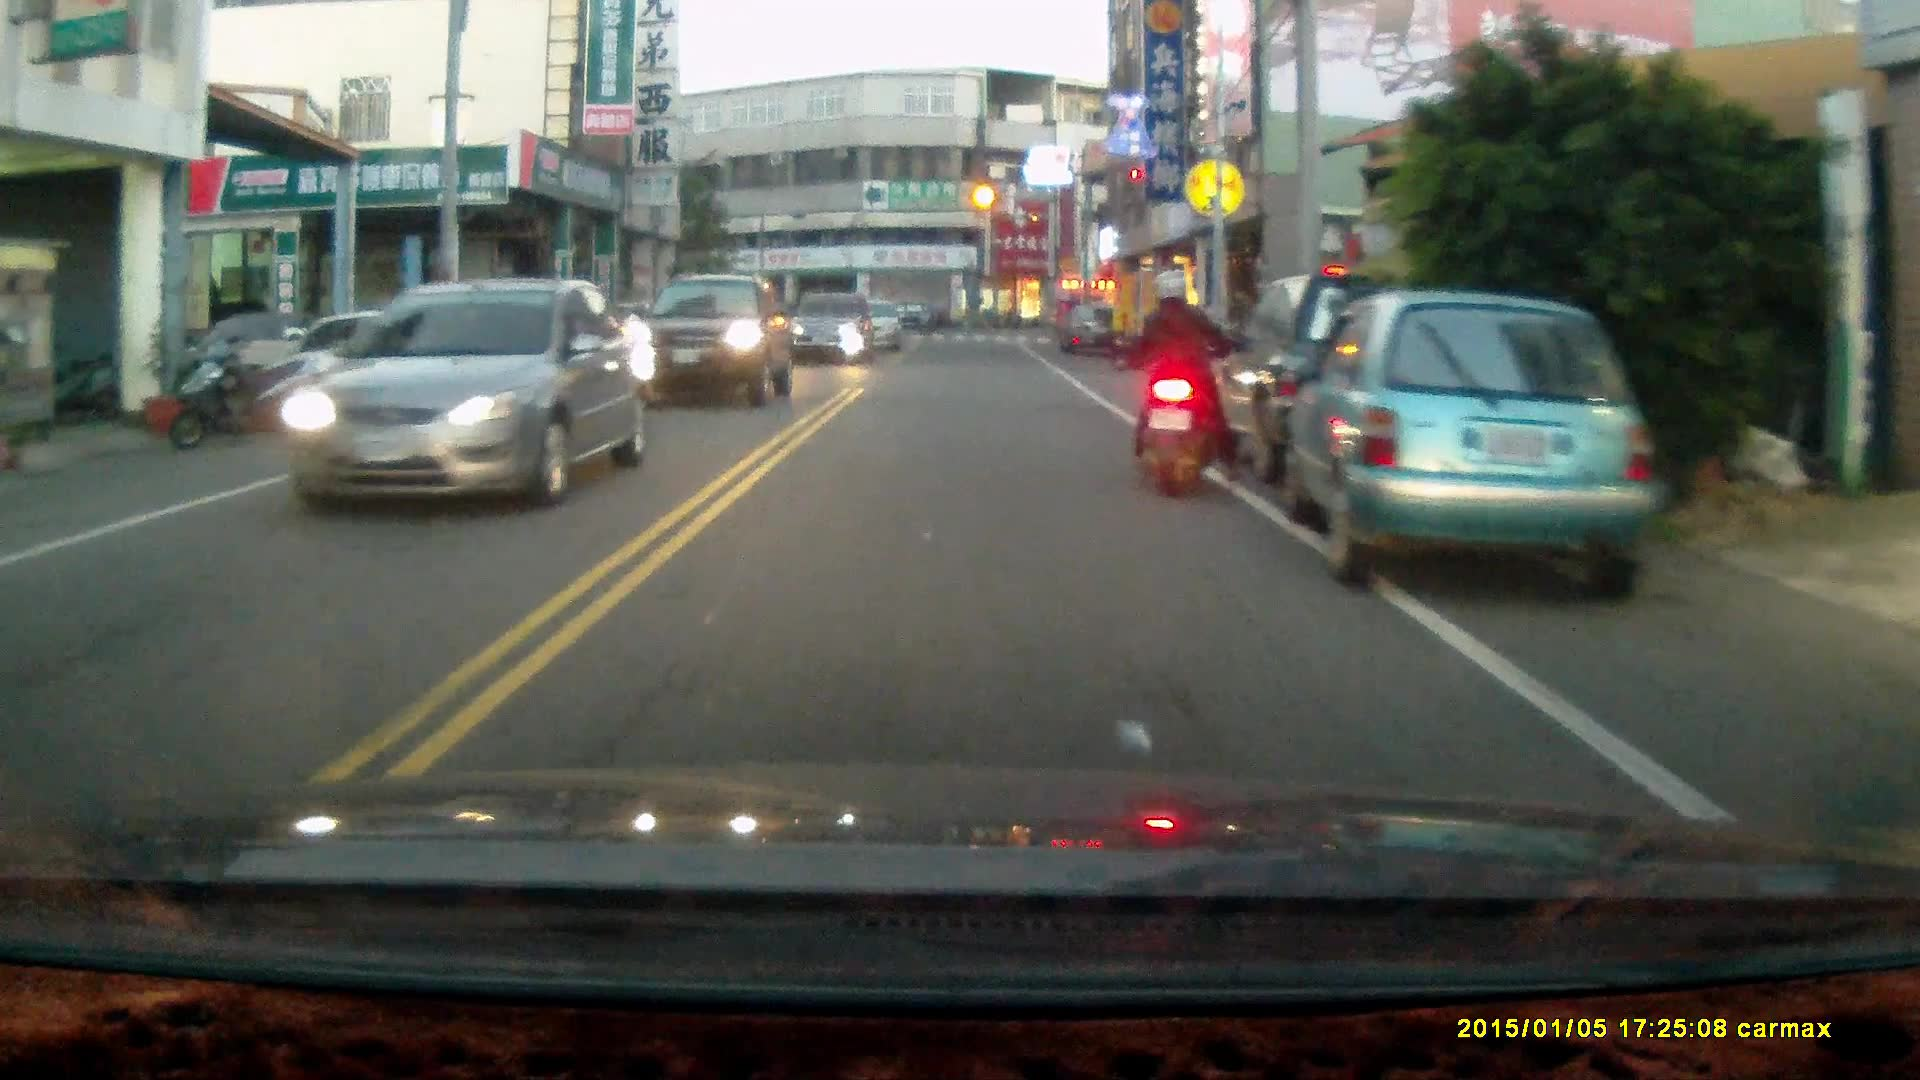rider: (1131, 266, 1238, 496)
vehicle: (1282, 290, 1654, 605), (283, 278, 652, 515), (1184, 269, 1509, 486), (263, 309, 474, 422), (630, 272, 794, 401), (787, 294, 878, 363), (1056, 302, 1126, 358)
